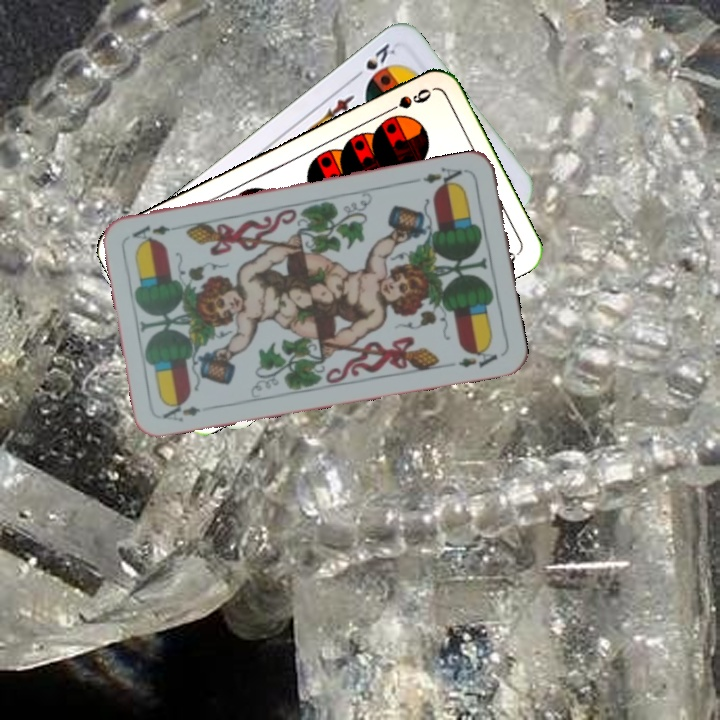EA: (419, 163, 469, 191), (159, 397, 203, 425)
S9: (379, 84, 435, 118)
SK: (348, 39, 398, 86)
